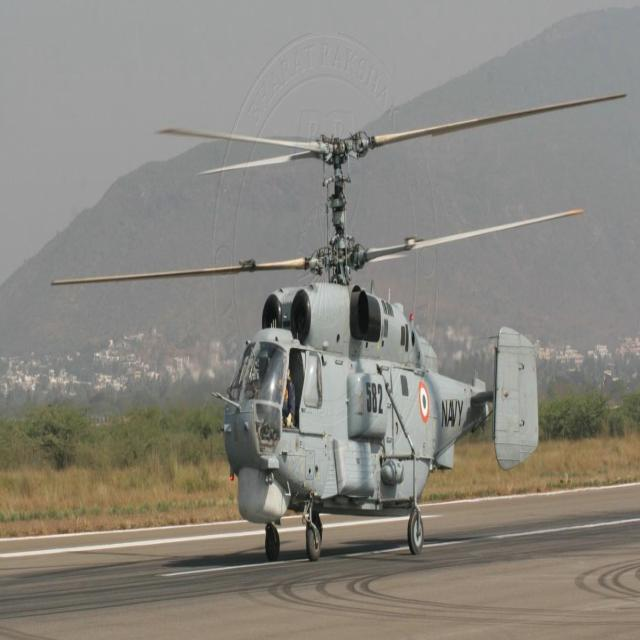MIL_HELO: (39, 85, 640, 593)
